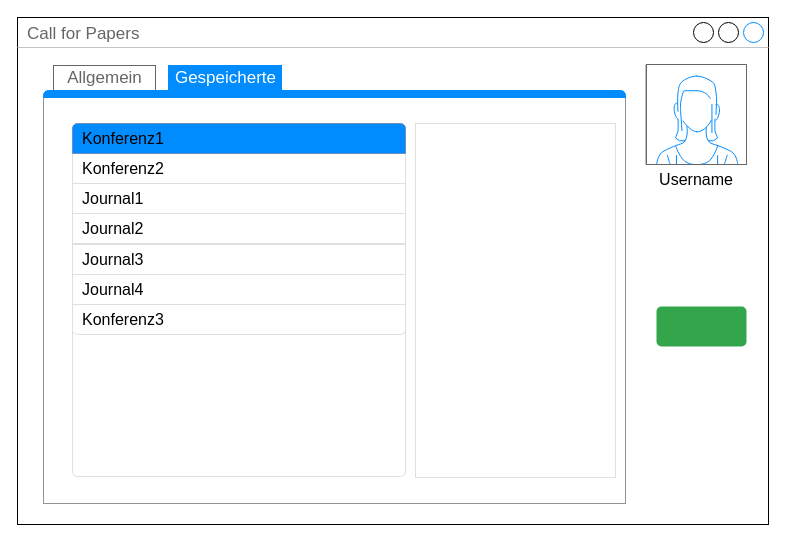
Some shapes in this 786 by 542 pixel diagram are drawn without their labels. The shapes that lost their labels are listed below. From the top down, each one's centre as x and y in pixels, then its label:
[515,300]: Deadline Konferenzname Thema Link
[701,326]: home
